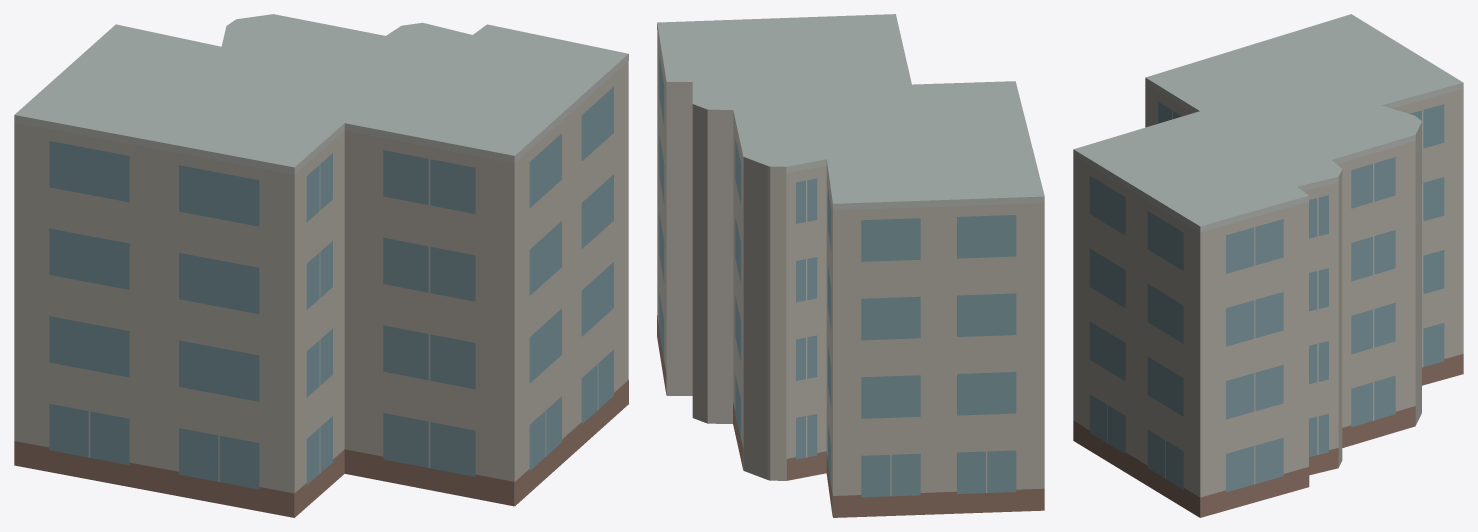
File: survey-upis-32610347.glb
3 renders of one model, left to right at view 1: azimuth 30°, elevation 25°; view 2: azimuth 150°, elevation 25°; view 3: azimuth 270°, elevation 25°, orthographic. The views are drawn at different scales.
Parts seen in each view (by area): view 1: survey-upis-32610347.tmp; view 2: survey-upis-32610347.tmp; view 3: survey-upis-32610347.tmp.
Part boxes in pixels (bbox=[...]): survey-upis-32610347.tmp: bbox=[14, 14, 628, 517]; survey-upis-32610347.tmp: bbox=[657, 14, 1044, 517]; survey-upis-32610347.tmp: bbox=[1073, 14, 1463, 517].
Bounding box in the file's own units: 18.3 × 11.7 × 14.2.
